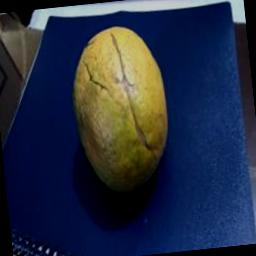Orange Overripe: (61, 18, 182, 196)
